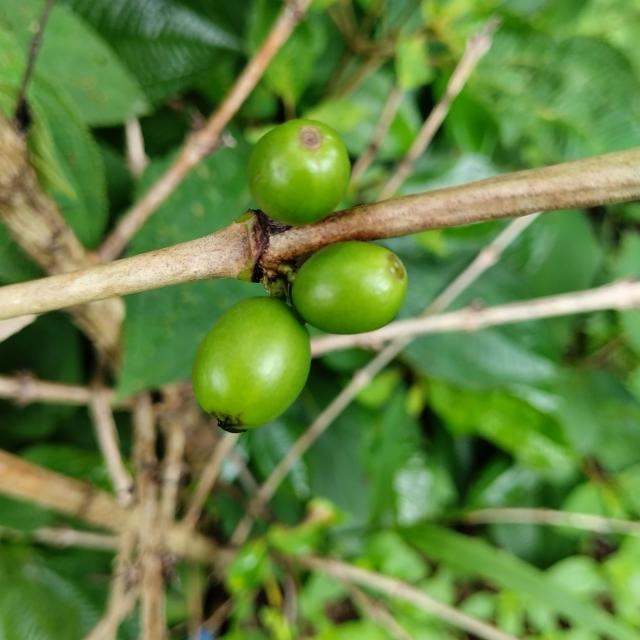green: (192, 297, 311, 433), (248, 119, 351, 225), (291, 241, 408, 334)
